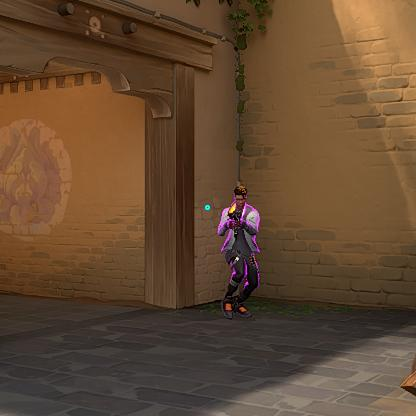enemyBody: (229, 209, 251, 249)
enemyHead: (237, 194, 244, 207)
